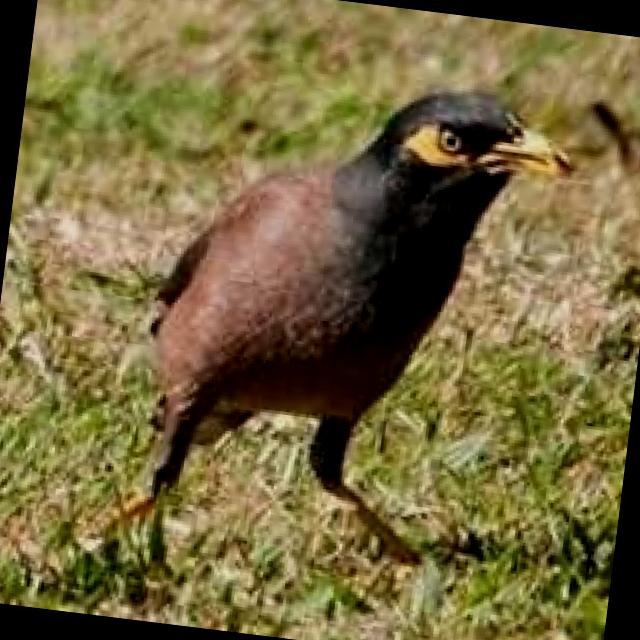bird: (60, 38, 590, 609)
